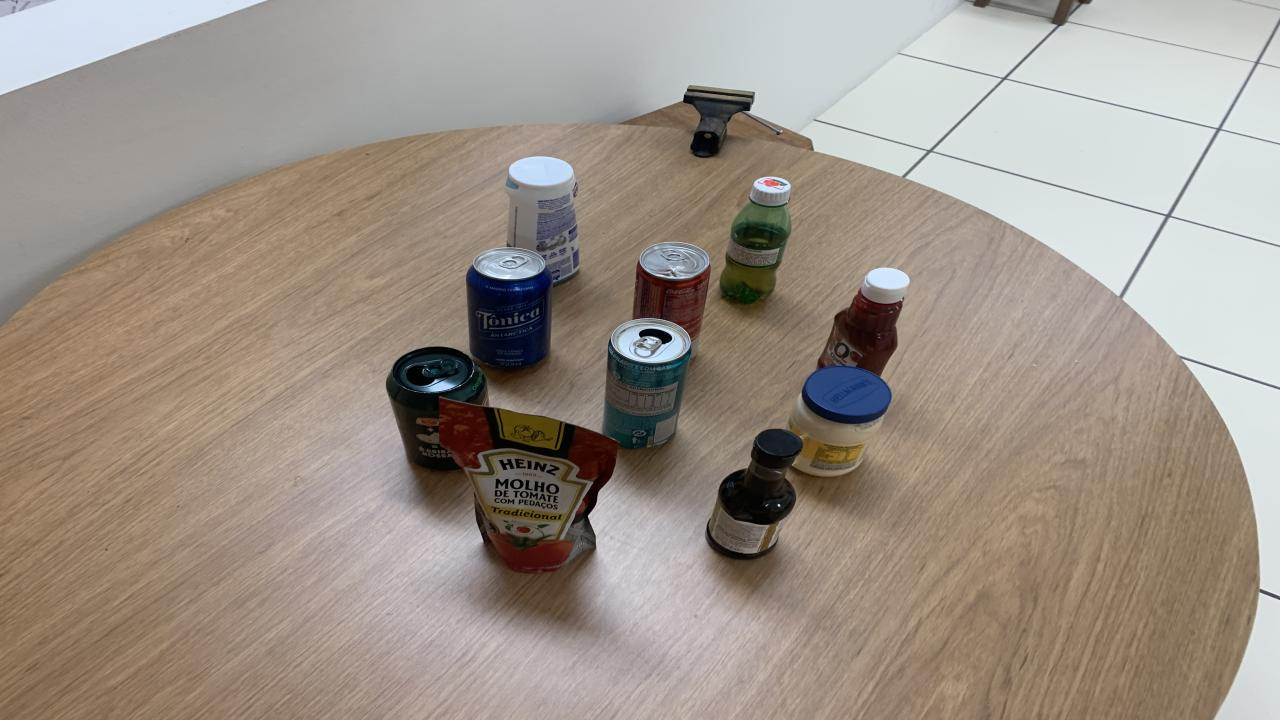Cleaner-Cleanup_Items: (505, 158, 580, 283)
Coke-Drinks: (632, 242, 710, 341)
English_Sauce-Pantry_Items: (708, 429, 802, 559)
Guarana-Drinks: (720, 176, 790, 304)
Guarana_Can-Drinks: (385, 347, 488, 471)
Ketchup-Pantry_Items: (818, 268, 910, 375)
Mayonnaise-Pantry_Items: (788, 366, 890, 476)
Tea-Drinks: (602, 317, 692, 448)
Tomato_Sauce-Pantry_Items: (438, 398, 618, 572)
Tonic-Drinks: (465, 248, 552, 368)
